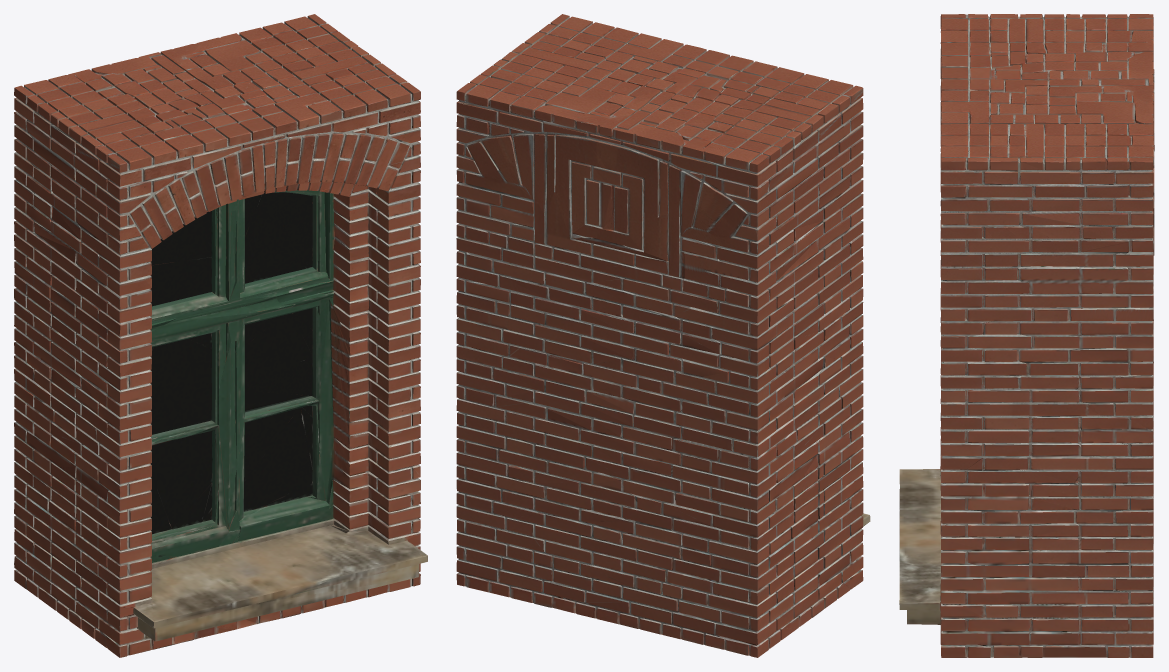
The model's file is familok_window_segmental.glb.
3 renders of one model, left to right at view 1: azimuth 30°, elevation 25°; view 2: azimuth 150°, elevation 25°; view 3: azimuth 270°, elevation 25°, orthographic.
Bounding box in the file's own units: 1.21 × 1.9 × 0.8845.
Materials: 1 (1 with a texture image).
